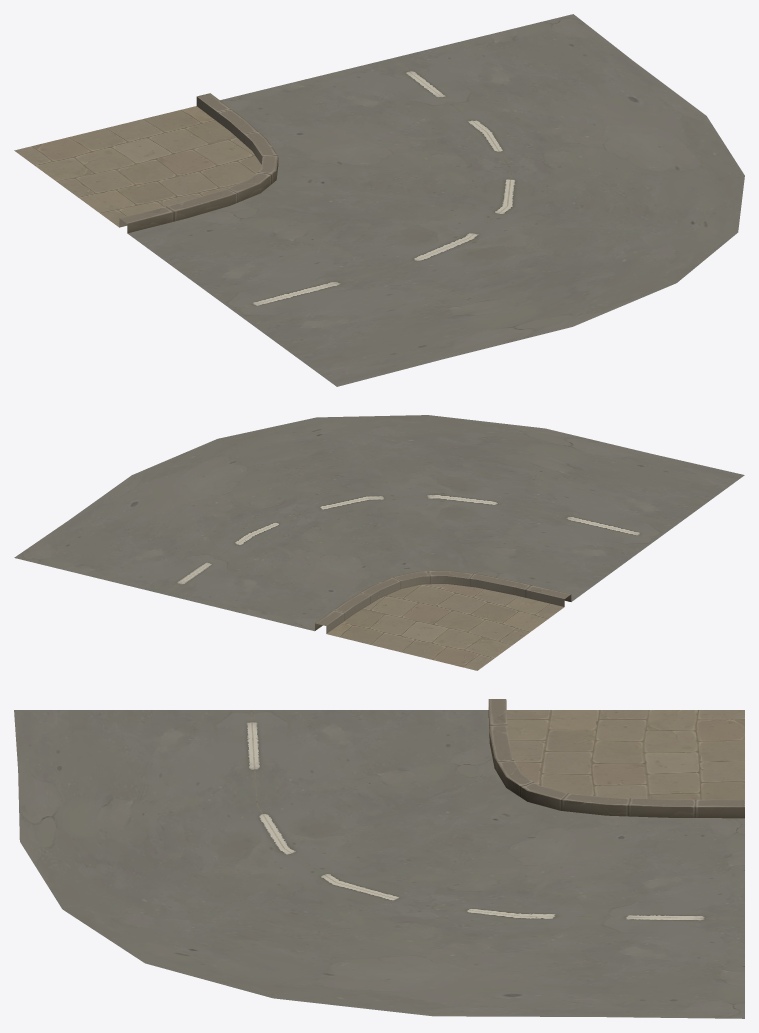
Rendered from Road_Middle.001.fbx.
3 renders of one model, top to bottom at view 1: azimuth 30°, elevation 25°; view 2: azimuth 150°, elevation 25°; view 3: azimuth 270°, elevation 25°, orthographic. The views are drawn at different scales.
Parts seen in each view (by area): view 1: Road_Middle.001; view 2: Road_Middle.001; view 3: Road_Middle.001.
Boxes of the visible parts, <box> form: Road_Middle.001: <box>14,14,744,386</box>; Road_Middle.001: <box>14,415,744,670</box>; Road_Middle.001: <box>14,699,744,1018</box>.
Bounding box in the file's own units: 3677 × 60.35 × 3677.
